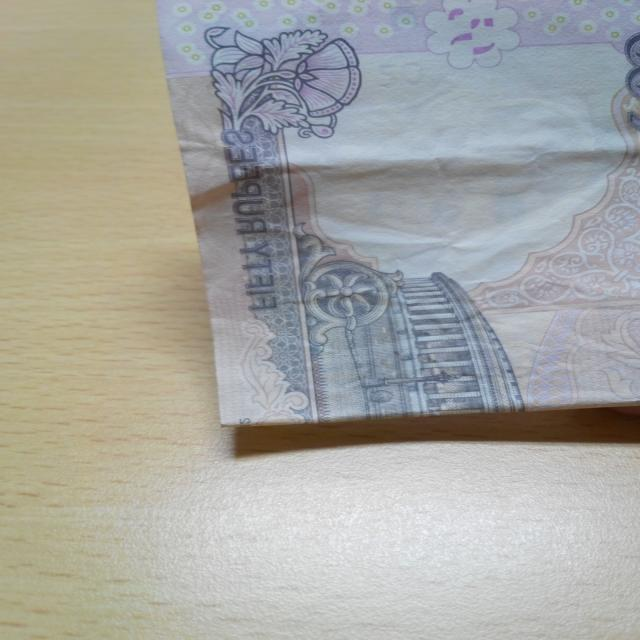50rs: (150, 0, 640, 458)
